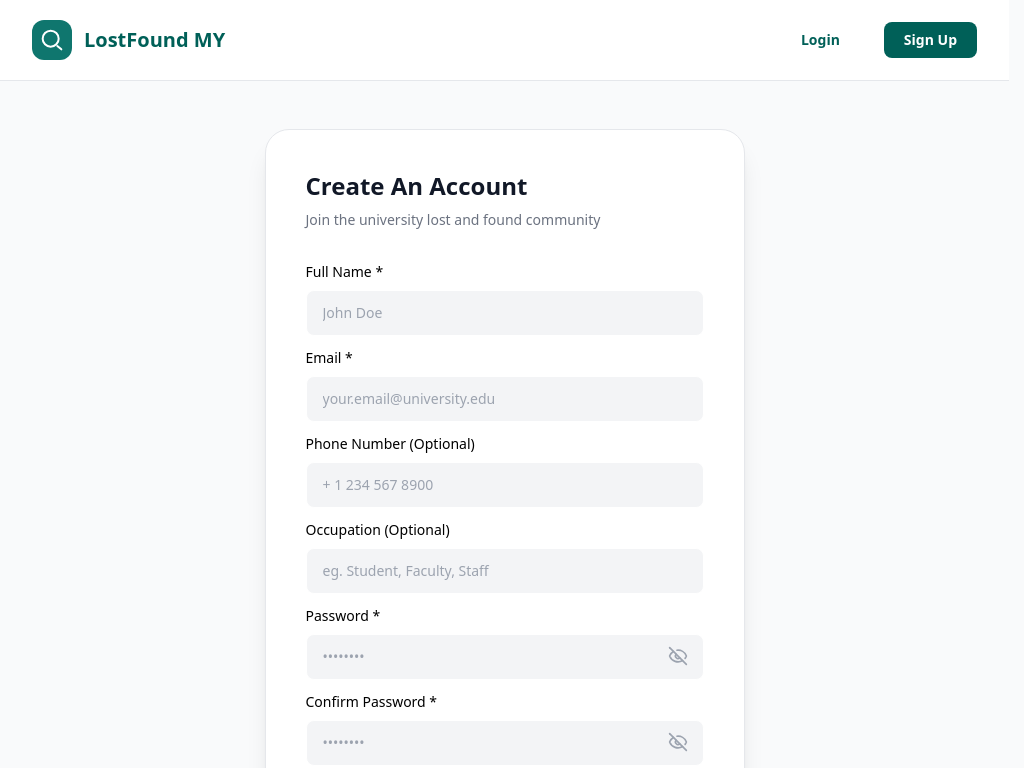
it: Signup Component › shows error when password has no uppercase letter
This screenshot has width=1024, height=768.
Type "Test User" into the field with placeholder "John Doe" at (504, 313), box [306,290,704,336]
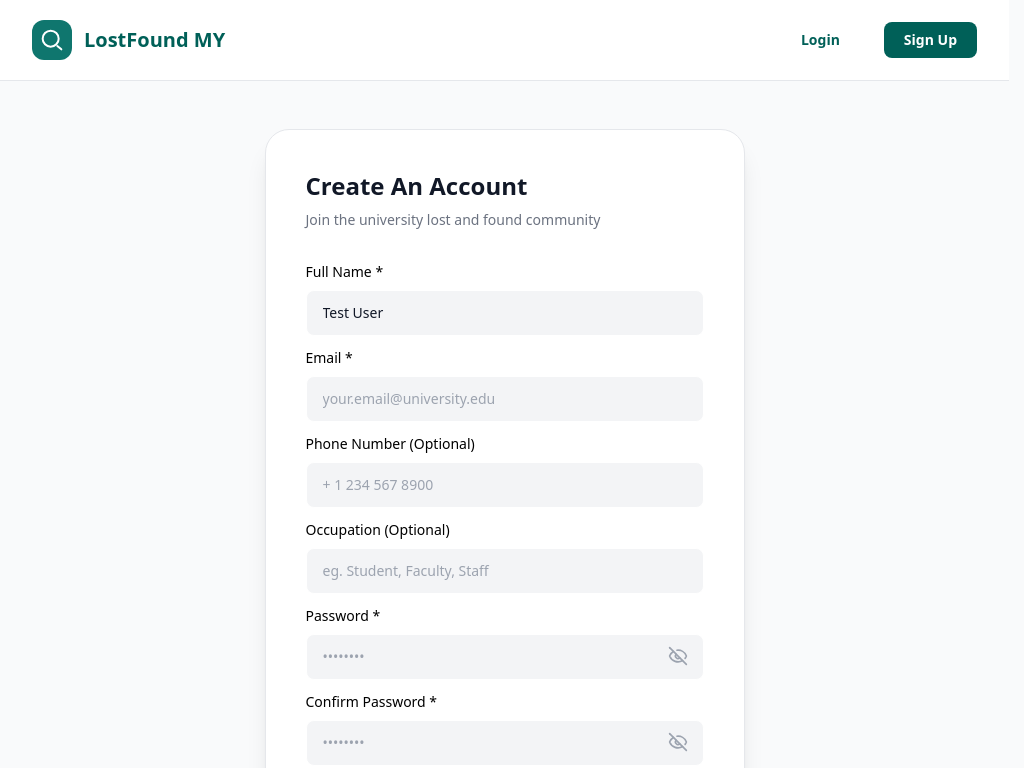
Type "test@example.com" into the field with placeholder "your.email@university.edu" at (504, 399), box [306,376,704,422]
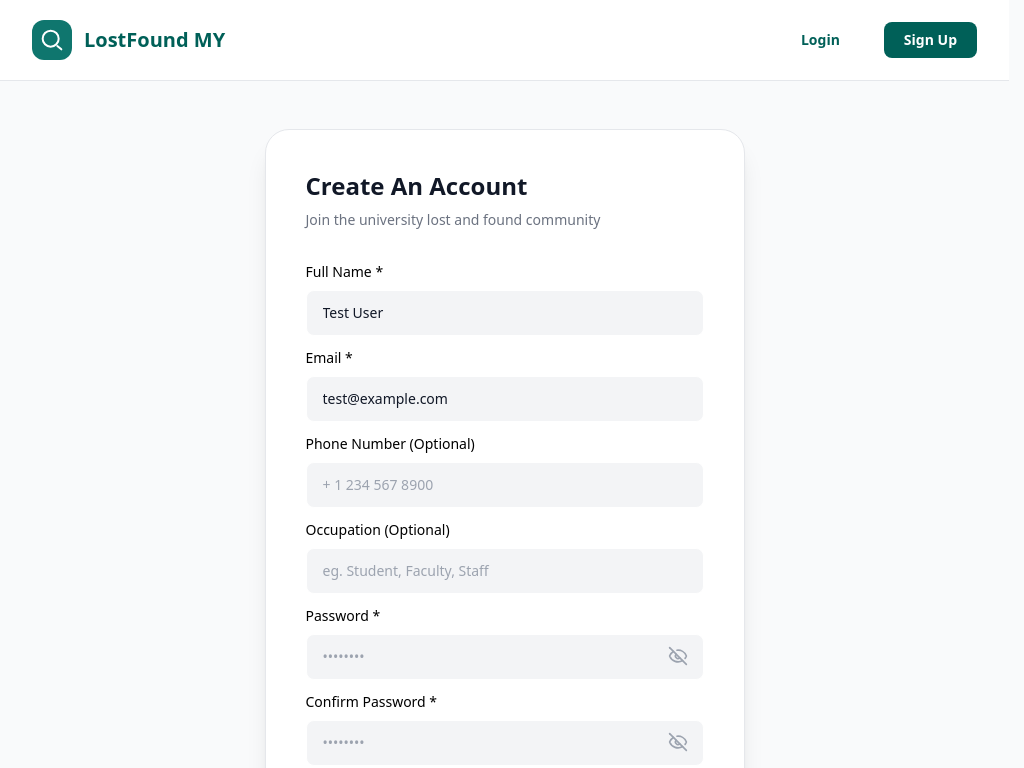
Type "password123!" into the 1st password field with placeholder "••••••••" at (504, 657), box [306,634,704,680]
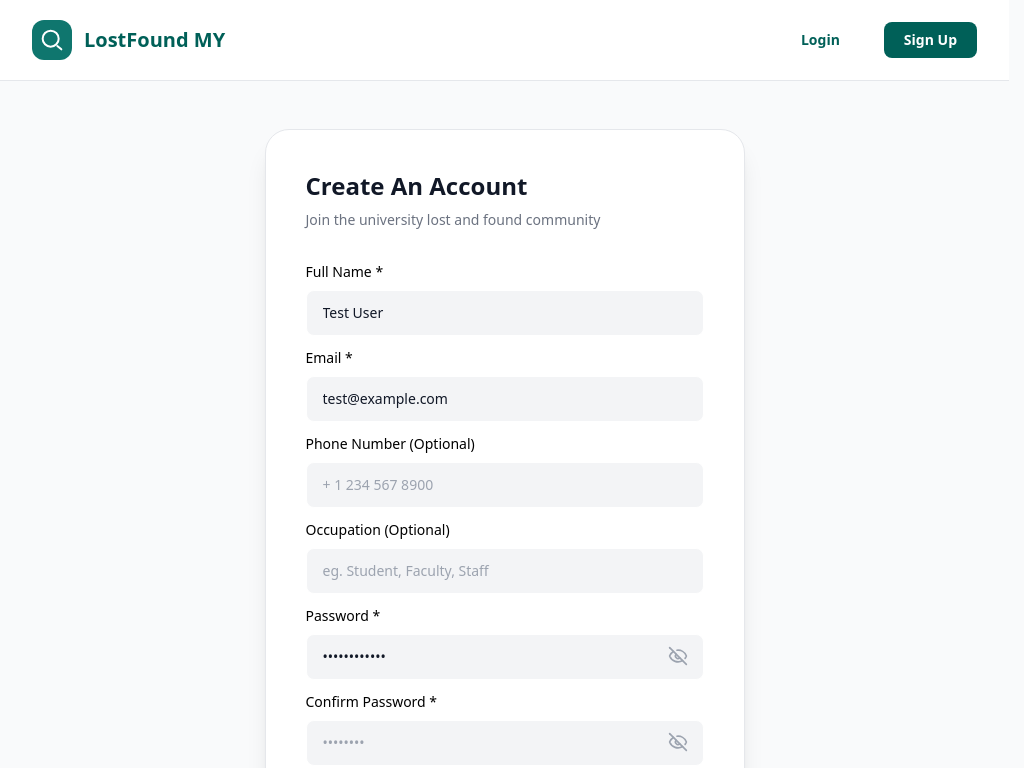
Type "password123!" into the password field with placeholder "••••••••" at (504, 743), box [306,720,704,766]
(page scrolled)
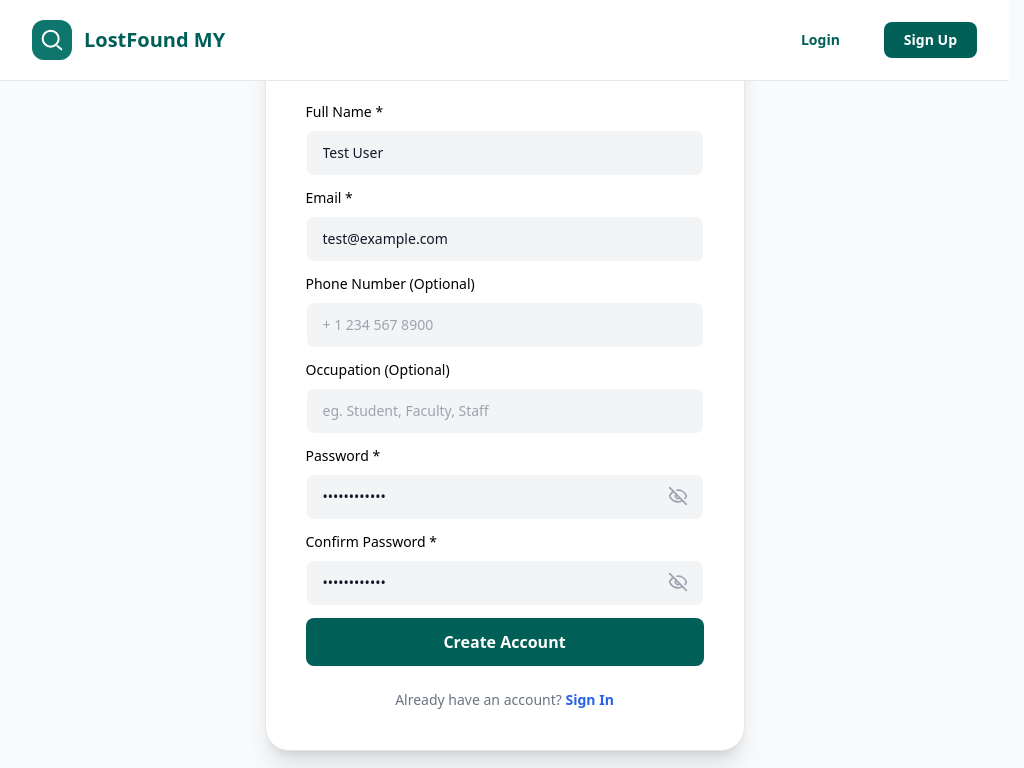
Submit the form named "create account", box [306,102,704,666]
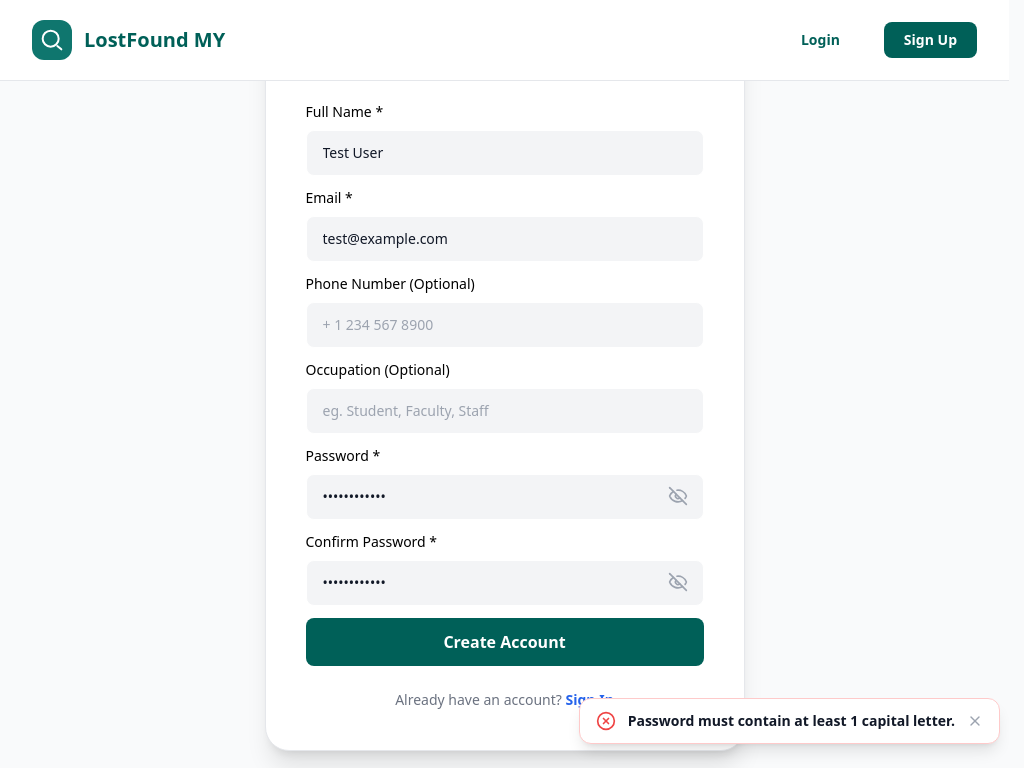
Check: the text "Password must contain at least 1 capital letter." is shown, box [628,711,955,731]
